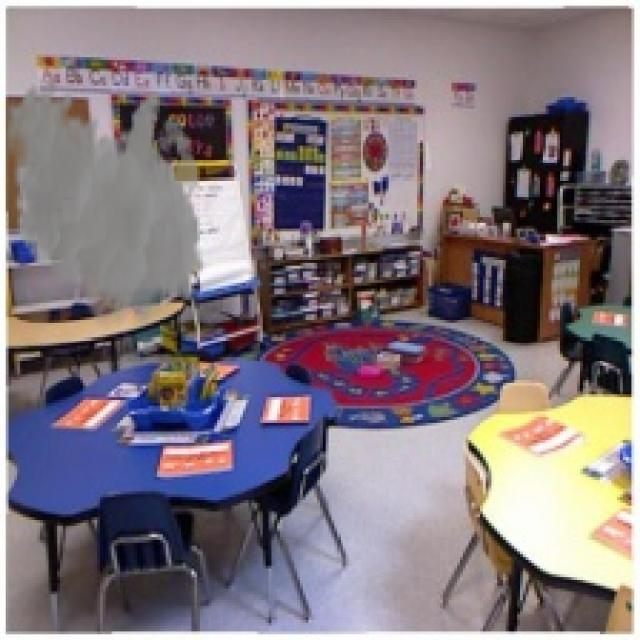smoke: (6, 77, 206, 337)
